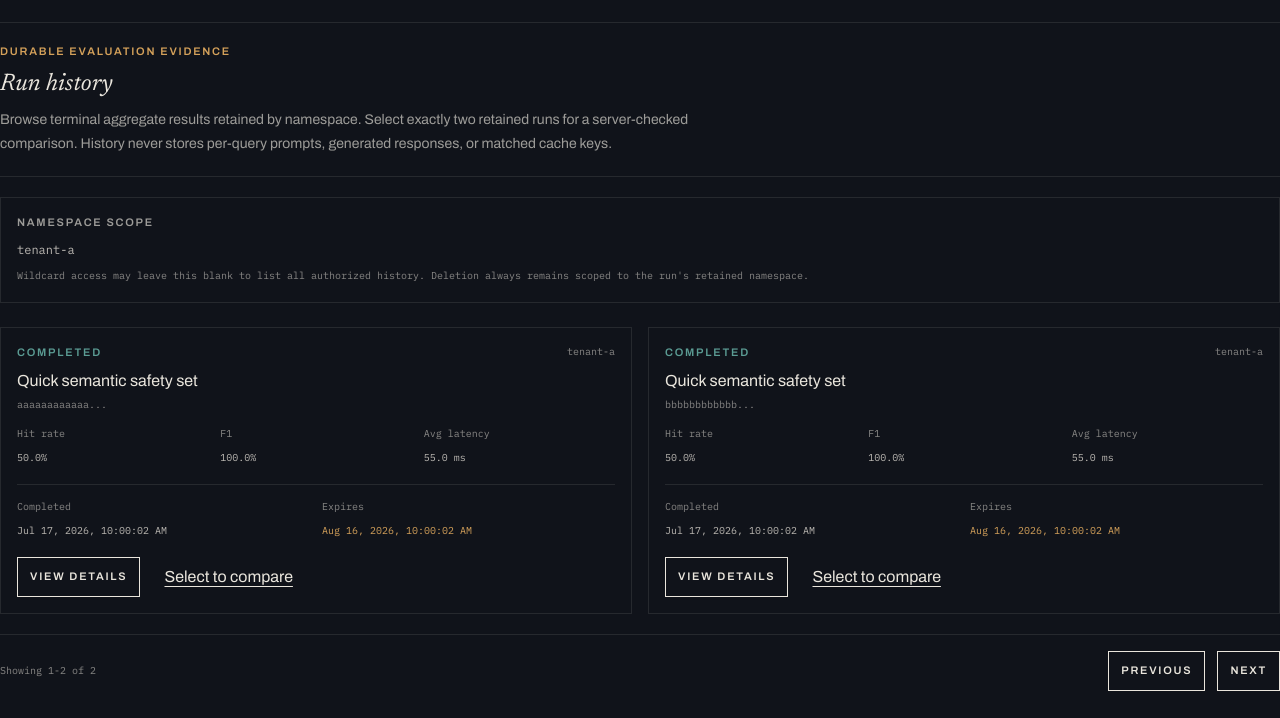
Scenario: evaluation run comparison UI › keeps warned comparisons visible with explicit caveats
The width and height of the screenshot is (1280, 718).
Click the 1st button "Select to compare" at (229, 576), box x1=152 y1=556 x2=305 y2=596
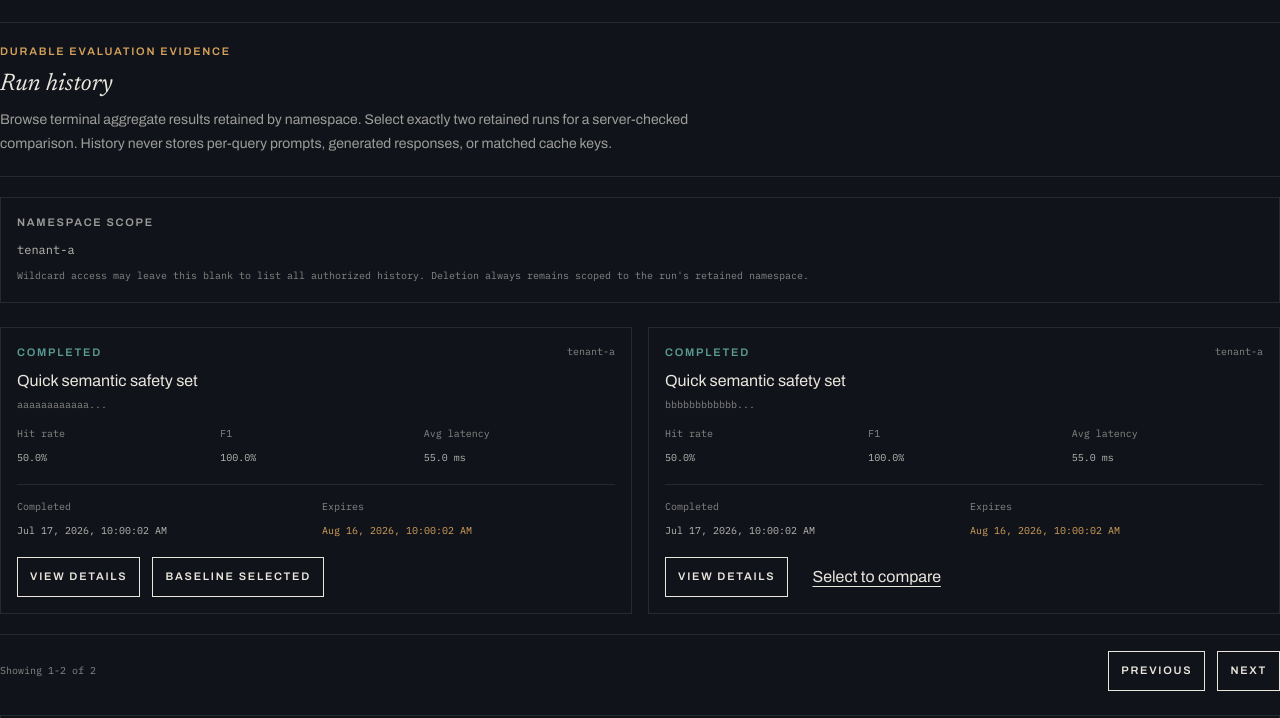
Click the button "Select to compare" at (877, 576), box x1=800 y1=556 x2=953 y2=596
(page scrolled)
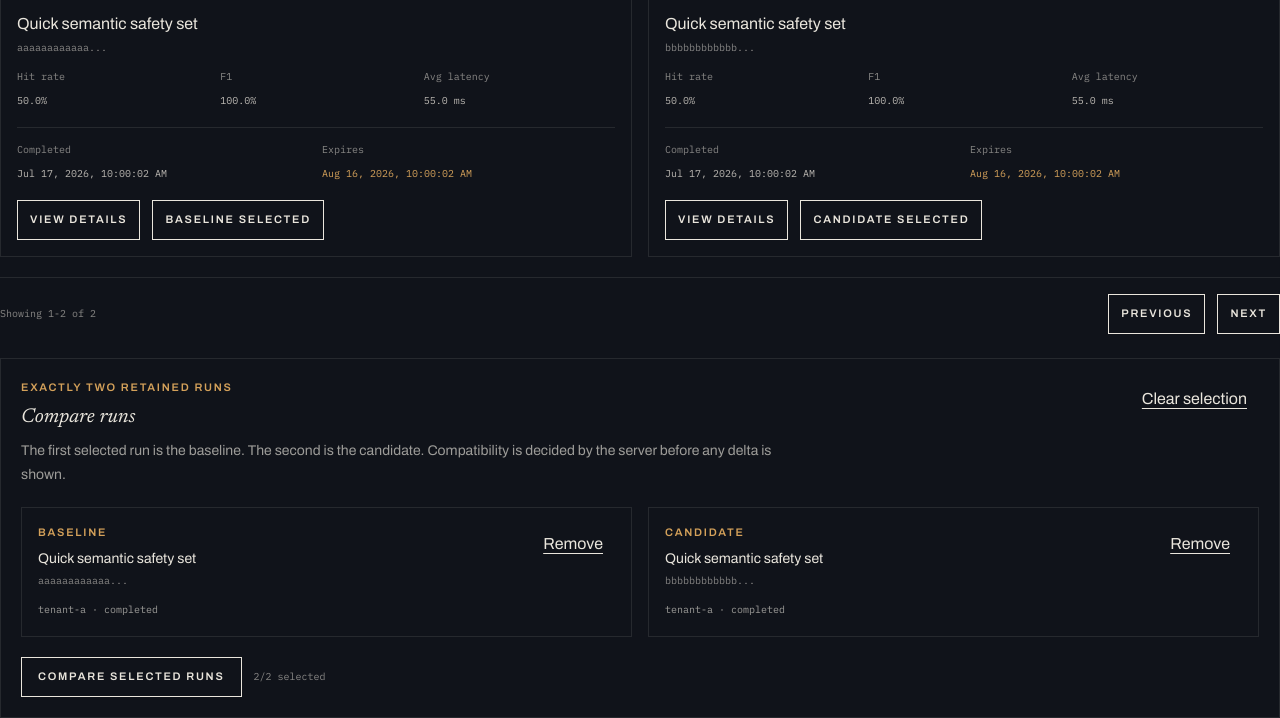
Click the button "Compare selected runs" at (131, 676), box x1=21 y1=656 x2=242 y2=696
(page scrolled)
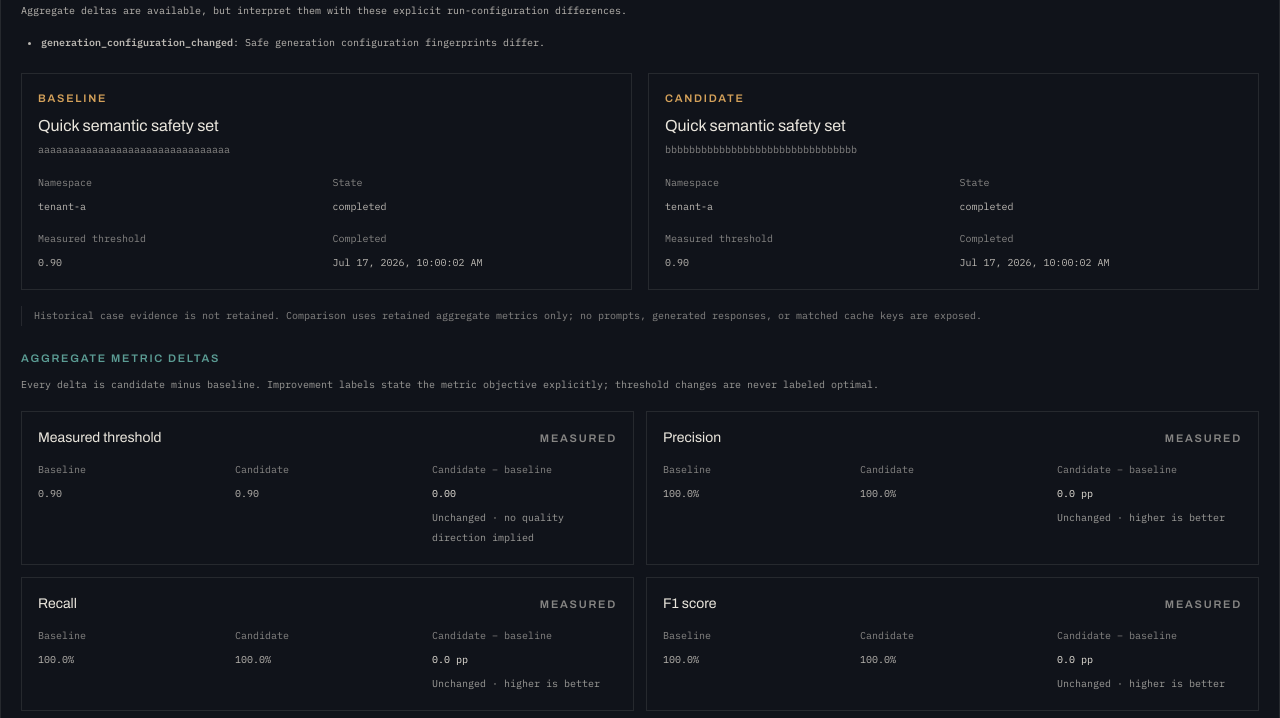
expect the text "generation_configuration_changed" is shown: met, box x1=41 y1=36 x2=233 y2=48
expect the heading "Aggregate metric deltas" is shown: met, box x1=21 y1=352 x2=220 y2=364
